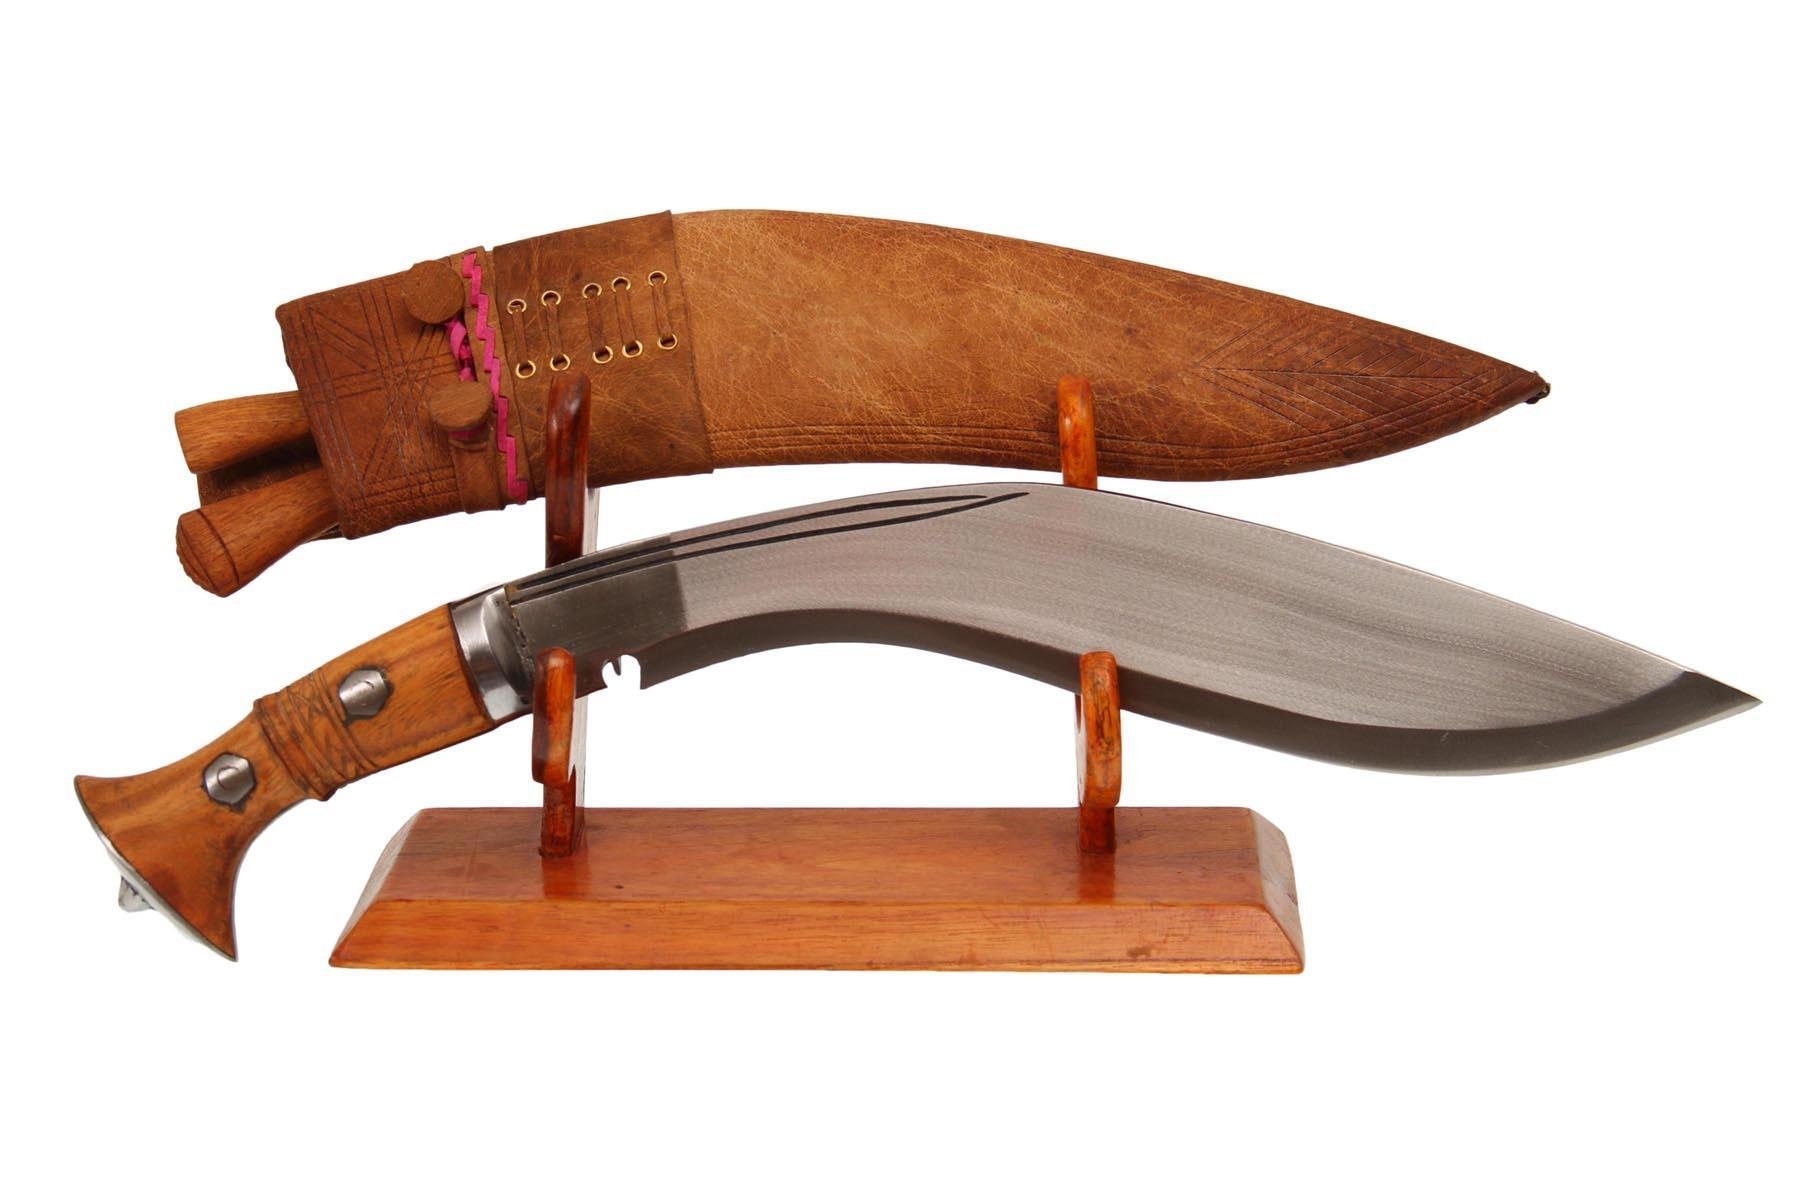facao: (42, 98, 1600, 565), (42, 514, 1756, 925)
